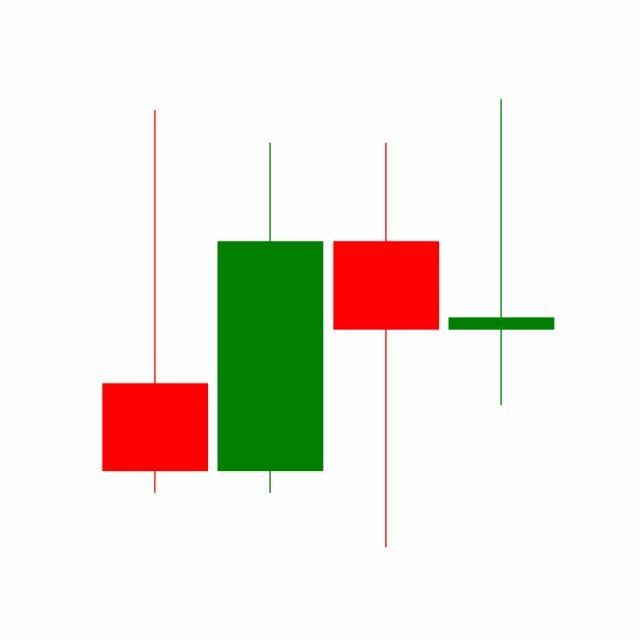Spinning Top: (329, 139, 445, 553)
